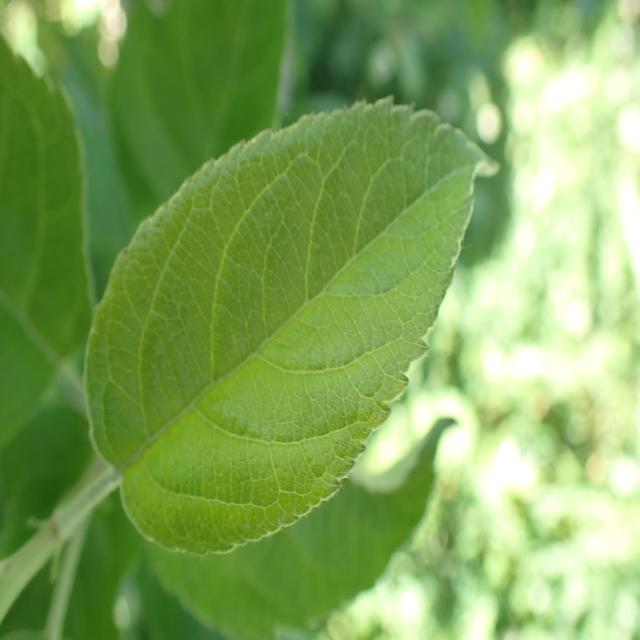healthy: (86, 94, 499, 556), (142, 415, 460, 639), (0, 31, 94, 361)
